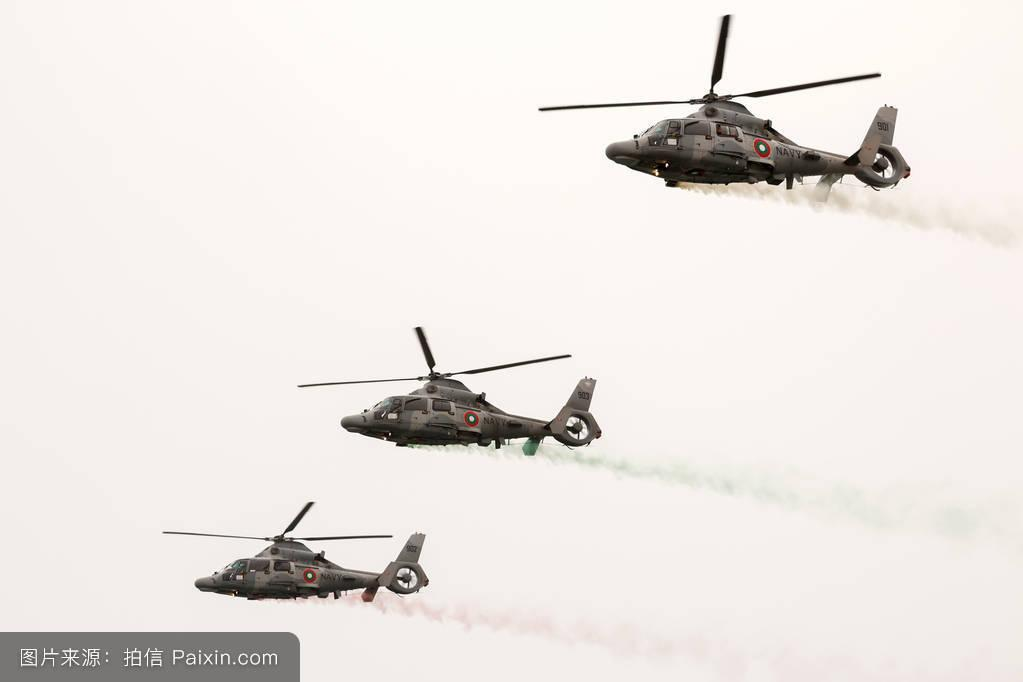airplane: (534, 13, 940, 190), (291, 323, 625, 470), (160, 500, 441, 621)
